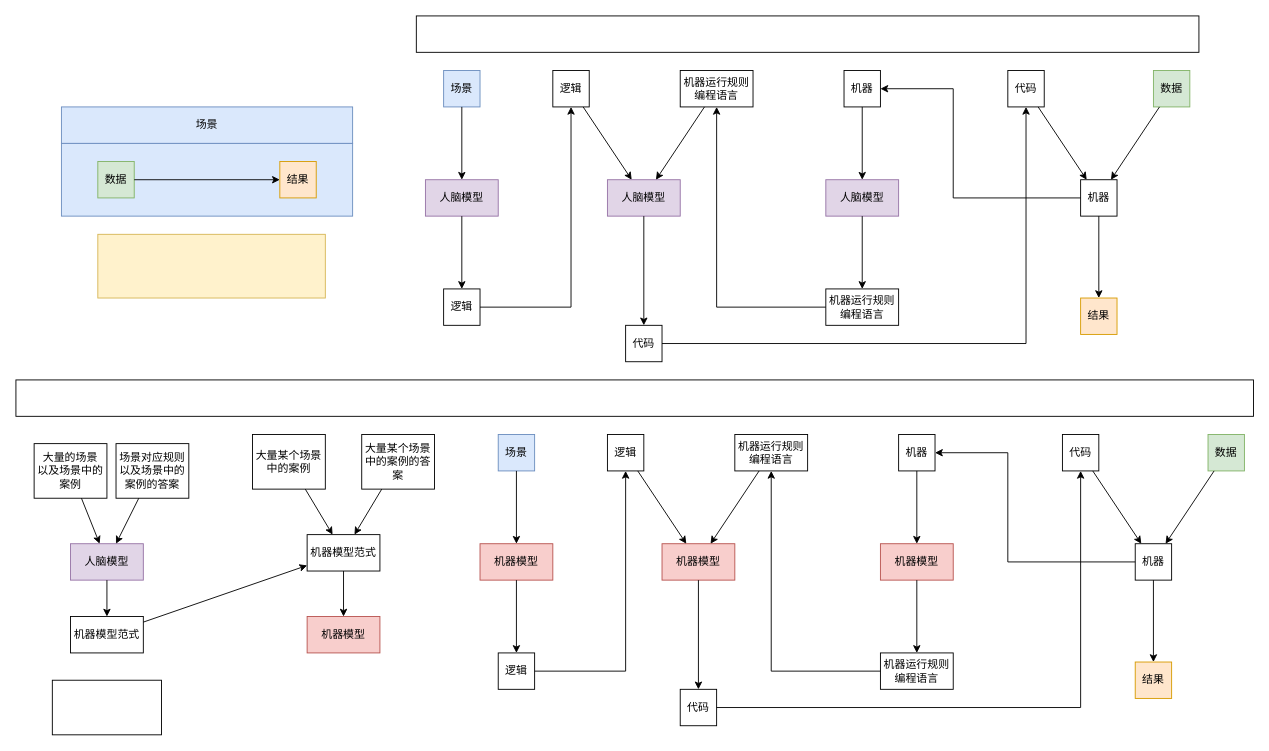
Image size: 1269x751. Some labels were removed from this diagram. The shapes that lost their labels are listed below. From the top down, each one's box as (x1, y1, x2, y2) in pixels, then its label:
(415, 15, 1199, 52): 人脑进行编程的过程
(97, 233, 325, 298): 人脑模型和机器模型都是想要去模拟这个场景，场景模拟出来之后用给的数据去推断结果
(15, 379, 1254, 416): 机器学习进行编程的过程
(51, 679, 162, 735): 机器模型范式本身也是一个抽象出来的模型
